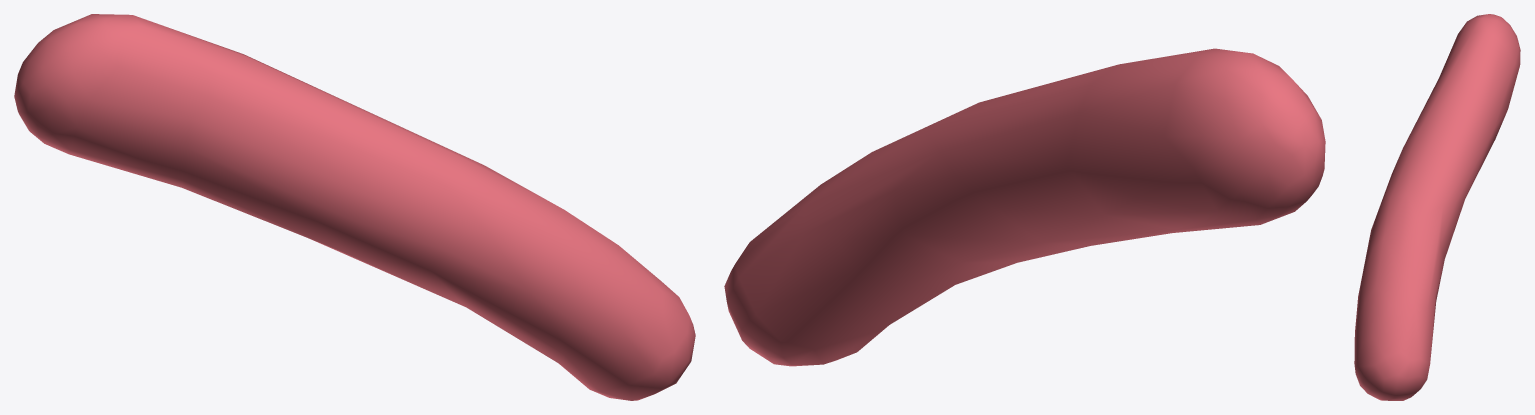
Rendered from fma50306_fj2950.glb.
3 renders of one model, left to right at view 1: azimuth 30°, elevation 25°; view 2: azimuth 150°, elevation 25°; view 3: azimuth 270°, elevation 25°, orthographic. The views are drawn at different scales.
Visible parts, largest first — view 1: FMA50306_FJ2950; view 2: FMA50306_FJ2950; view 3: FMA50306_FJ2950.
Part boxes in pixels (box(x1,y1,x2,y2)): FMA50306_FJ2950: box(14, 14, 695, 400); FMA50306_FJ2950: box(724, 48, 1325, 366); FMA50306_FJ2950: box(1354, 14, 1520, 400).
Size of the model in its own units: 0.0277 by 0.0194 by 0.0116.
